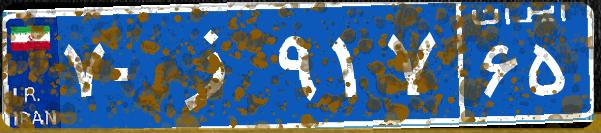0: (110, 28, 158, 105)
1: (330, 28, 385, 110)
5: (525, 38, 570, 115)
6: (475, 38, 525, 113)
7: (385, 28, 445, 110), (57, 26, 110, 107)
9: (273, 28, 330, 110)
ز: (158, 15, 273, 115)
